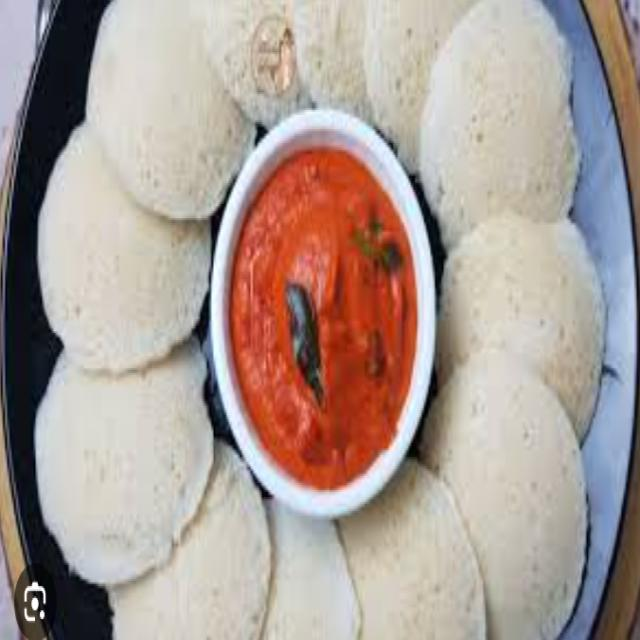tomato chutney: (238, 161, 422, 465)
